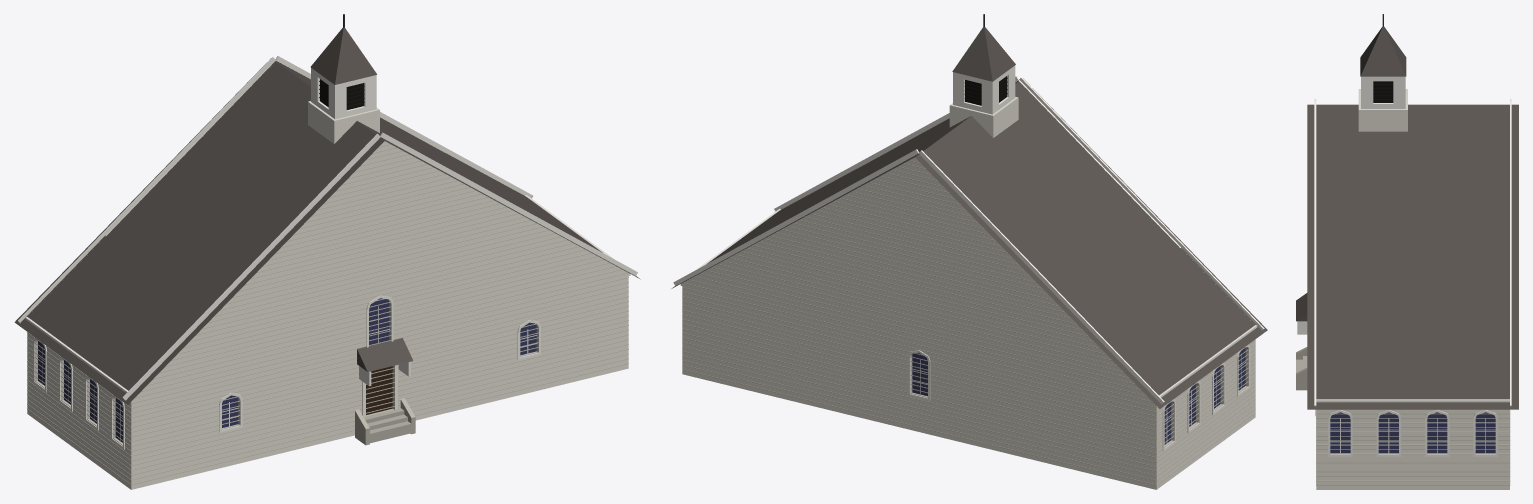
Rendered from ch-south-highland-baptist-1961.glb.
3 renders of one model, left to right at view 1: azimuth 30°, elevation 25°; view 2: azimuth 150°, elevation 25°; view 3: azimuth 270°, elevation 25°, orthographic. The views are drawn at different scales.
Visible parts, largest first — view 1: ch_brick, ch_roof, ch_brick2, ch_trim, ch_roof2, ch_stain, ch_conc, ch_door; view 2: ch_brick, ch_roof, ch_brick2, ch_trim, ch_roof2, ch_stain; view 3: ch_roof, ch_brick, ch_trim, ch_brick2, ch_stain, ch_roof2, ch_conc, ch_shadow.
Part boxes in pixels (x1,y1,x2,y2): ch_brick: (27, 101, 628, 489); ch_roof: (14, 58, 640, 404); ch_brick2: (27, 67, 628, 485); ch_trim: (18, 56, 637, 449); ch_roof2: (310, 27, 413, 371); ch_stain: (38, 298, 536, 442); ch_conc: (355, 398, 415, 445); ch_door: (366, 366, 392, 414); ch_brick: (682, 97, 1255, 489); ch_roof: (671, 78, 1267, 408); ch_brick2: (682, 87, 1255, 485); ch_trim: (673, 65, 1264, 451); ch_roof2: (952, 27, 1015, 81); ch_stain: (912, 347, 1245, 444); ch_roof: (1307, 104, 1518, 409); ch_brick: (1316, 89, 1509, 489); ch_trim: (1297, 76, 1511, 456); ch_brick2: (1316, 409, 1510, 485); ch_stain: (1330, 412, 1495, 453); ch_roof2: (1296, 26, 1406, 321); ch_conc: (1296, 347, 1307, 390); ch_shadow: (1373, 81, 1393, 102).
Bounding box in the file's own units: 24.79 × 17.98 × 9.96.
